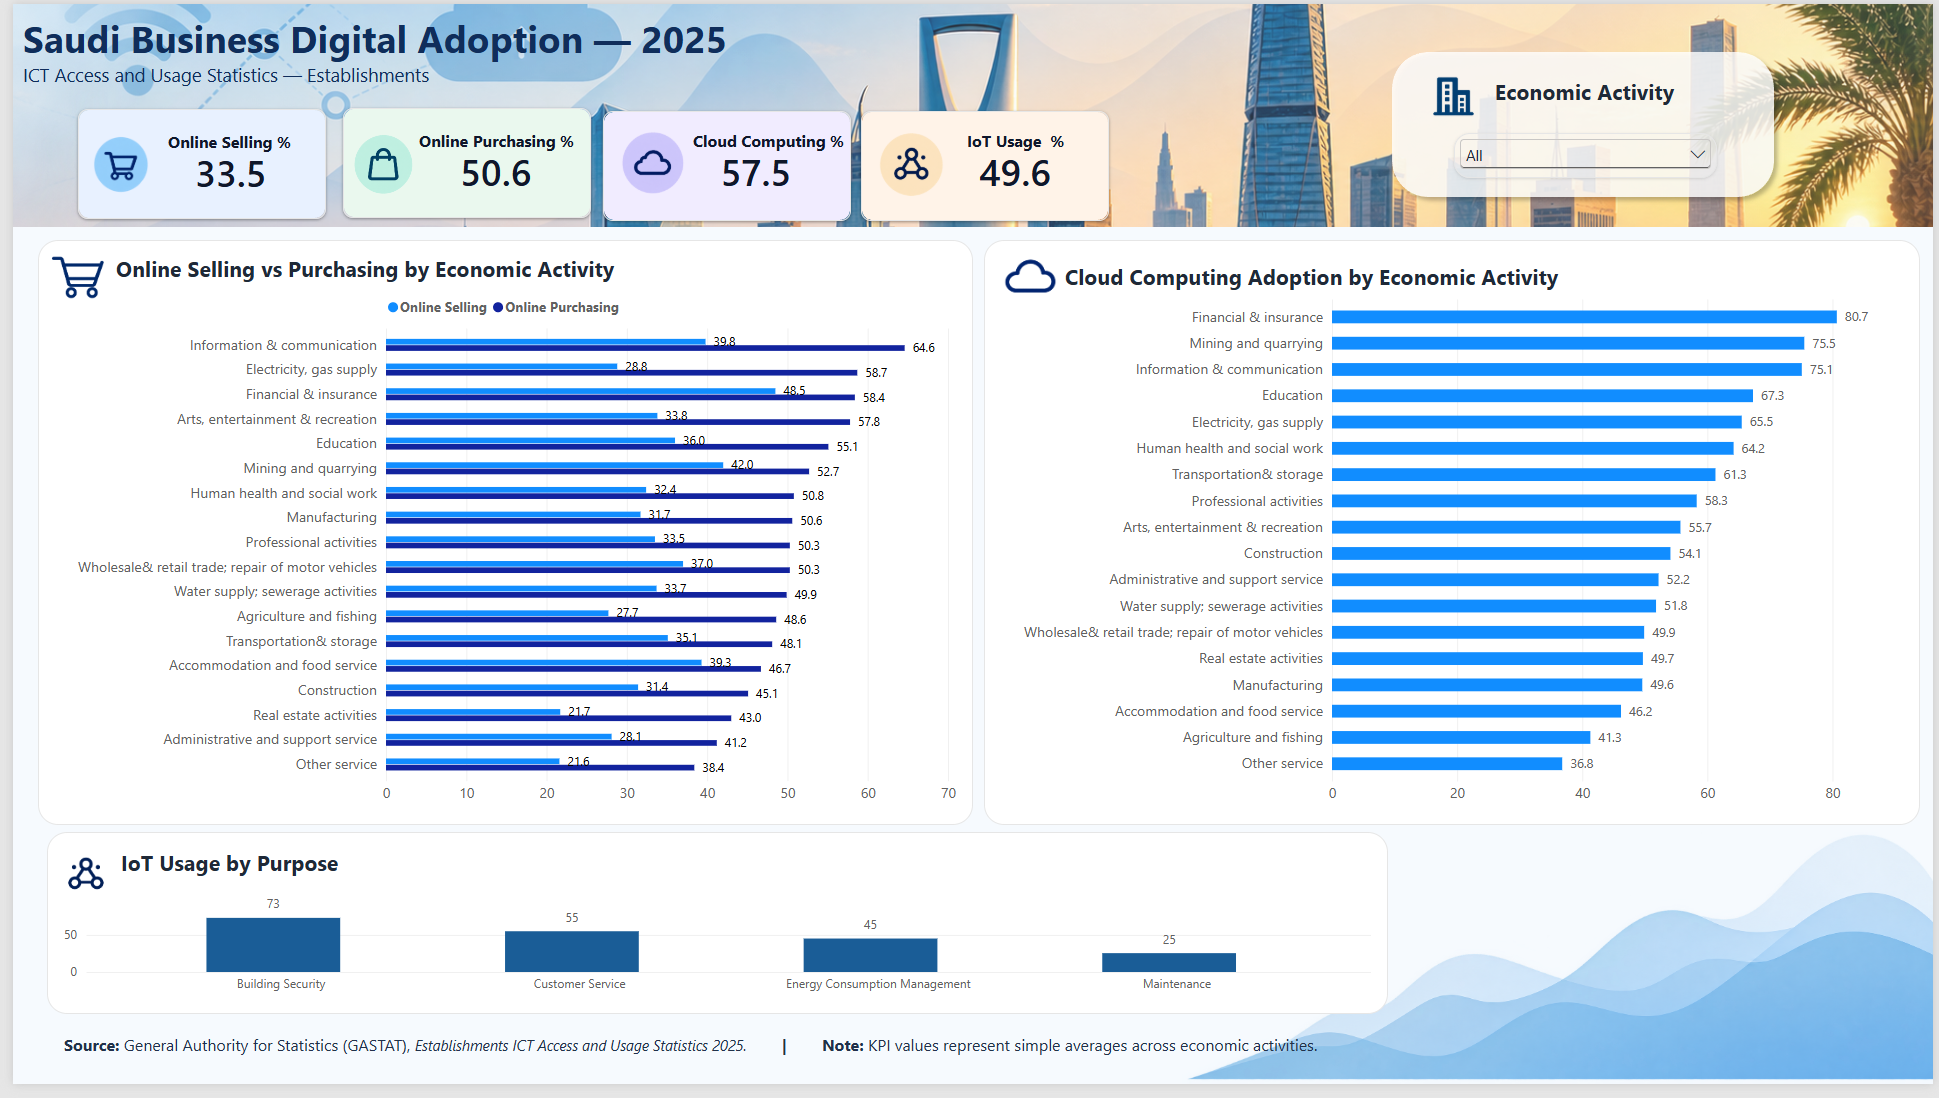

Layout of this report page (visuals, bound fields, positions):
{"tool":"powerbi","page":{"name":"Overview","canvas":[1920,1080],"ordinal":0},"visuals":[{"type":"image","box":[1169.2,827.9,751,251.9],"z":0},{"type":"image","box":[0,0,1920,223.3],"z":1000},{"type":"shape","box":[65.3,104.8,247.9,110],"z":2000},{"type":"textbox","box":[10.1,9,790.1,117.5],"z":3000},{"type":"cardVisual","title":"Online Selling %","fields":{"Data":["Avg(Online Selling.Online Selling %)"]},"box":[123,129,189.8,76.8],"z":4000},{"type":"clusteredBarChart","title":"    ","fields":{"Category":["Economic Activities.Economic Activity"],"Y":["Avg(Online Selling.Online Selling %)","Avg(Online Purchasing.Online Purchasing %)"]},"box":[25,236,935,585],"z":5000},{"type":"clusteredBarChart","title":" ","fields":{"Category":["Economic Activities.Economic Activity"],"Y":["Avg(Cloud Computing.Cloud Computing %)"]},"box":[971.1,235.6,935.6,585.6],"z":6000},{"type":"clusteredColumnChart","title":"  ","fields":{"Category":["IoT Usage by Purpose.IoT Purpose"],"Y":["Avg(IoT Usage by Purpose.IoT Usage %)"]},"box":[34.1,828.4,1340.9,181.8],"z":7000},{"type":"image","box":[73,118,70,84],"z":8000},{"type":"textbox","box":[155,127,130,25],"z":9000},{"type":"shape","box":[330.3,103.8,247.9,110],"z":10000},{"type":"cardVisual","title":"Online Selling %","fields":{"Data":["Avg(Online Purchasing.Online Purchasing %)"]},"box":[388,128,189.8,76.8],"z":11000},{"type":"textbox","box":[406,126,173,25],"z":12000},{"type":"shape","box":[590,106.7,247.9,110],"z":13000},{"type":"cardVisual","title":"Online Selling %","fields":{"Data":["Avg(Cloud Computing.Cloud Computing %)"]},"box":[648,128,189.8,76.8],"z":14000},{"type":"textbox","box":[680,125.6,157.8,25.6],"z":15000},{"type":"shape","box":[847.8,106.7,247.9,110],"z":16000},{"type":"cardVisual","title":"Online Selling %","fields":{"Data":["Avg(IoT Usage by Purpose.IoT Usage %)"]},"box":[907,128,189.8,76.8],"z":17000},{"type":"textbox","box":[954.4,125.6,101.1,25.6],"z":18000},{"type":"image","box":[330,116,81,89],"z":19000},{"type":"image","box":[590,111.1,100,95.6],"z":20000},{"type":"shape","box":[1370,38.9,400,163.3],"z":21000},{"type":"image","box":[845.6,117.8,105.6,85.6],"z":22000},{"type":"slicer","fields":{"Values":["Economic Activities.Economic Activity"]},"box":[1441.1,128.9,262.5,45],"z":23000},{"type":"textbox","box":[1454.4,73.3,234.4,34.4],"z":24000},{"type":"image","box":[1388.9,38.9,103.3,103.3],"z":25000},{"type":"textbox","box":[103,250,648,37],"z":26000},{"type":"textbox","box":[1052.2,257.8,647.8,36.7],"z":27000},{"type":"image","box":[34,240,62,64],"z":28000},{"type":"image","box":[983.3,225.6,68.9,91.1],"z":29000},{"type":"textbox","box":[108,844.3,297.7,37.5],"z":30000},{"type":"image","box":[43.2,836.4,60,60.7],"z":31000},{"type":"textbox","box":[51.1,1029.5,1346.6,37.5],"z":32000}]}

Visuals, with their boxes in screenshot pixels (x1, y1, x2, y2), scaled from the page's 1920x1080 canvas onto the 1939x1098 screenshot:
image: BBox(1181, 842, 1938, 1097)
image: BBox(0, 0, 1938, 227)
shape: BBox(66, 107, 316, 218)
textbox: BBox(10, 9, 808, 129)
"Online Selling %" cardVisual: BBox(124, 131, 316, 209)
"    " clusteredBarChart: BBox(25, 240, 970, 835)
" " clusteredBarChart: BBox(981, 240, 1926, 835)
"  " clusteredColumnChart: BBox(34, 842, 1389, 1027)
image: BBox(74, 120, 144, 205)
textbox: BBox(157, 129, 288, 155)
shape: BBox(334, 106, 584, 217)
"Online Selling %" cardVisual: BBox(392, 130, 584, 208)
textbox: BBox(410, 128, 585, 154)
shape: BBox(596, 108, 846, 220)
"Online Selling %" cardVisual: BBox(654, 130, 846, 208)
textbox: BBox(687, 128, 846, 154)
shape: BBox(856, 108, 1107, 220)
"Online Selling %" cardVisual: BBox(916, 130, 1108, 208)
textbox: BBox(964, 128, 1066, 154)
image: BBox(333, 118, 415, 208)
image: BBox(596, 113, 697, 210)
shape: BBox(1384, 40, 1788, 206)
image: BBox(854, 120, 961, 207)
slicer - Economic Activities.Economic Activity: BBox(1455, 131, 1720, 177)
textbox: BBox(1469, 75, 1706, 109)
image: BBox(1403, 40, 1507, 145)
textbox: BBox(104, 254, 758, 292)
textbox: BBox(1063, 262, 1717, 299)
image: BBox(34, 244, 97, 309)
image: BBox(993, 229, 1063, 322)
textbox: BBox(109, 858, 410, 896)
image: BBox(44, 850, 104, 912)
textbox: BBox(52, 1047, 1412, 1085)
